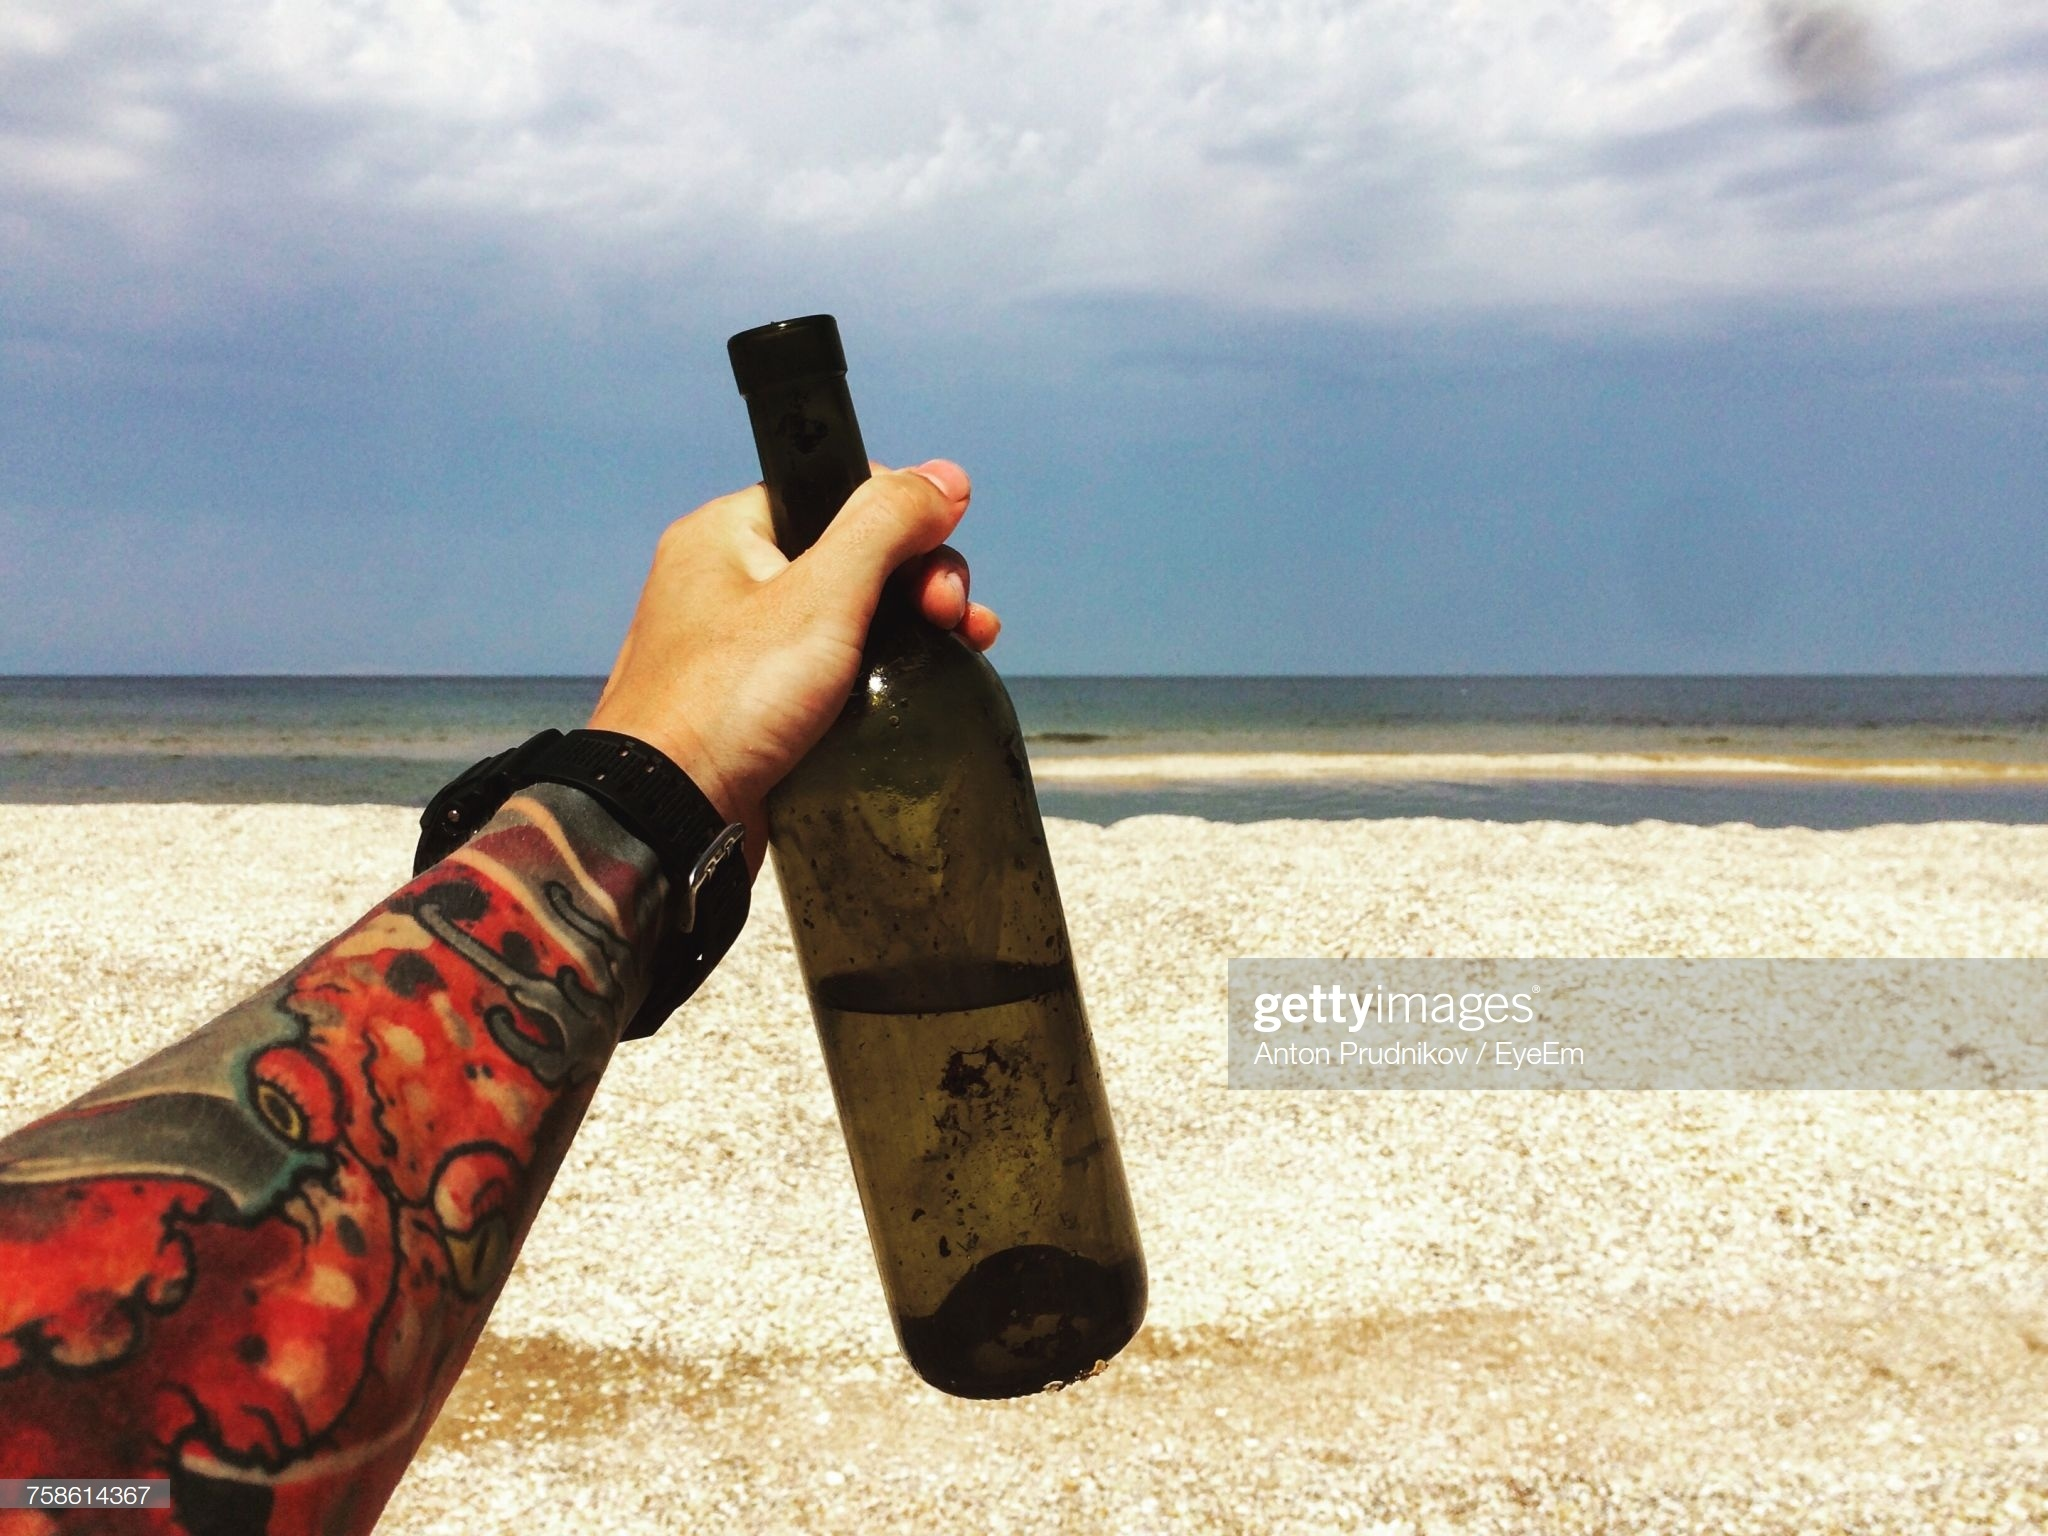beerBottle: (732, 323, 1147, 1396)
